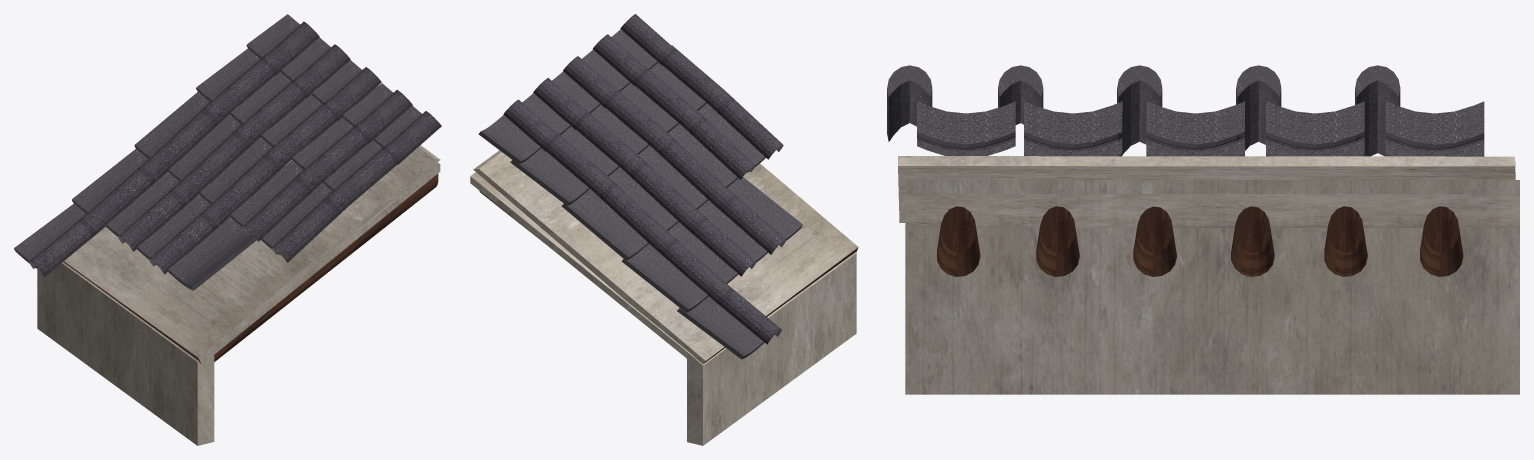
The model's file is SM_Roof_58.fbx.
The picture shows the model from 3 angles, left to right: view 1: azimuth 30°, elevation 25°; view 2: azimuth 150°, elevation 25°; view 3: azimuth 270°, elevation 25°; orthographic projection. The views are drawn at different scales.
Visible parts, largest first — view 1: SM_Roof_58; view 2: SM_Roof_58; view 3: SM_Roof_58.
Part boxes in pixels (x1,y1,x2,y2): SM_Roof_58: (14,14,441,445); SM_Roof_58: (470,14,858,445); SM_Roof_58: (887,65,1519,394).
Size of the model in its own units: 260 by 254 by 235.
3 materials, 3 textured.
